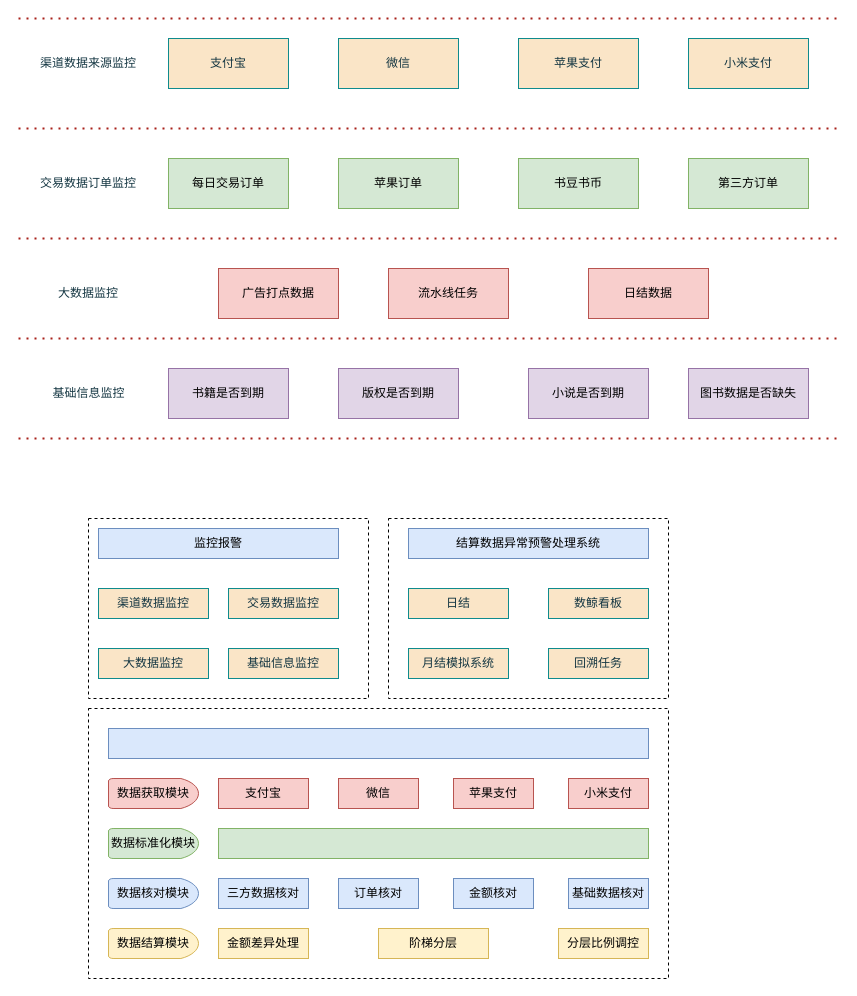
Image size: 857x996. Some labels were removed from this diagram. The box of each missing label's shape, as (x1, y1, x2, y2) in pixels:
数据处理模块化: (108, 728, 648, 758)
账单解析: (218, 828, 648, 858)
